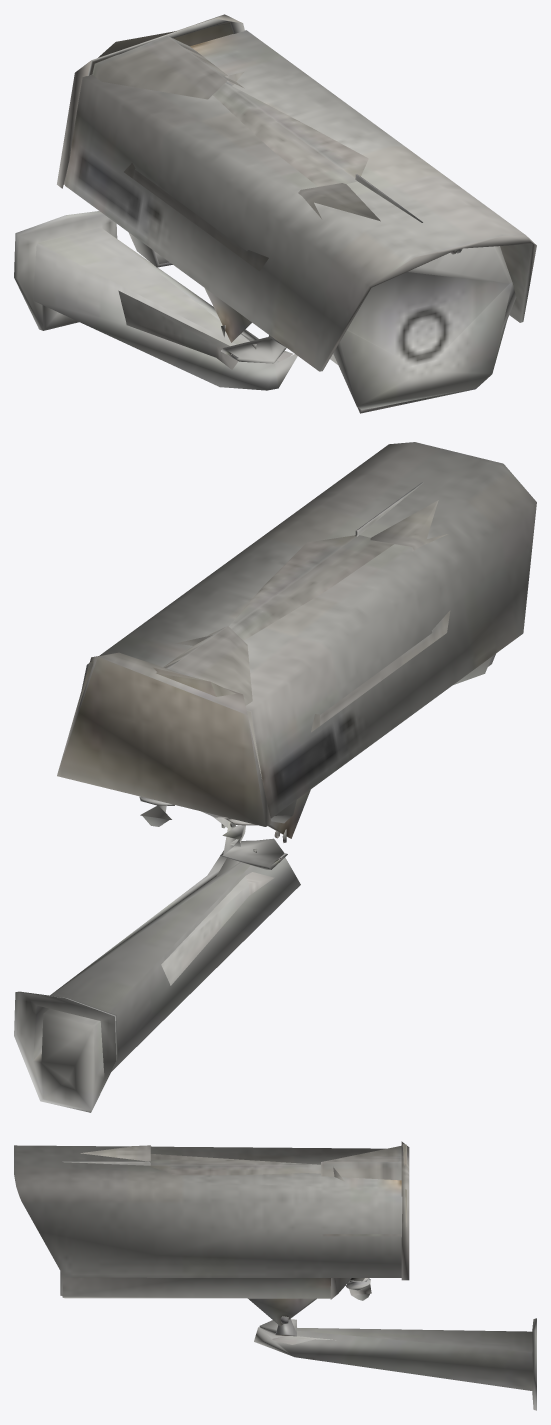
Rendered from camera.glb.
3 renders of one model, top to bottom at view 1: azimuth 30°, elevation 25°; view 2: azimuth 150°, elevation 25°; view 3: azimuth 270°, elevation 25°, orthographic. The views are drawn at different scales.
Parts seen in each view (by area): view 1: camera; view 2: camera; view 3: camera.
Boxes of the visible parts, <box> form: camera: <box>14,14,536,413</box>; camera: <box>14,442,536,1112</box>; camera: <box>14,1141,536,1410</box>.
Bounding box in the file's own units: 0.1696 × 0.2854 × 0.5536.
Materials: 2 (2 with a texture image).
